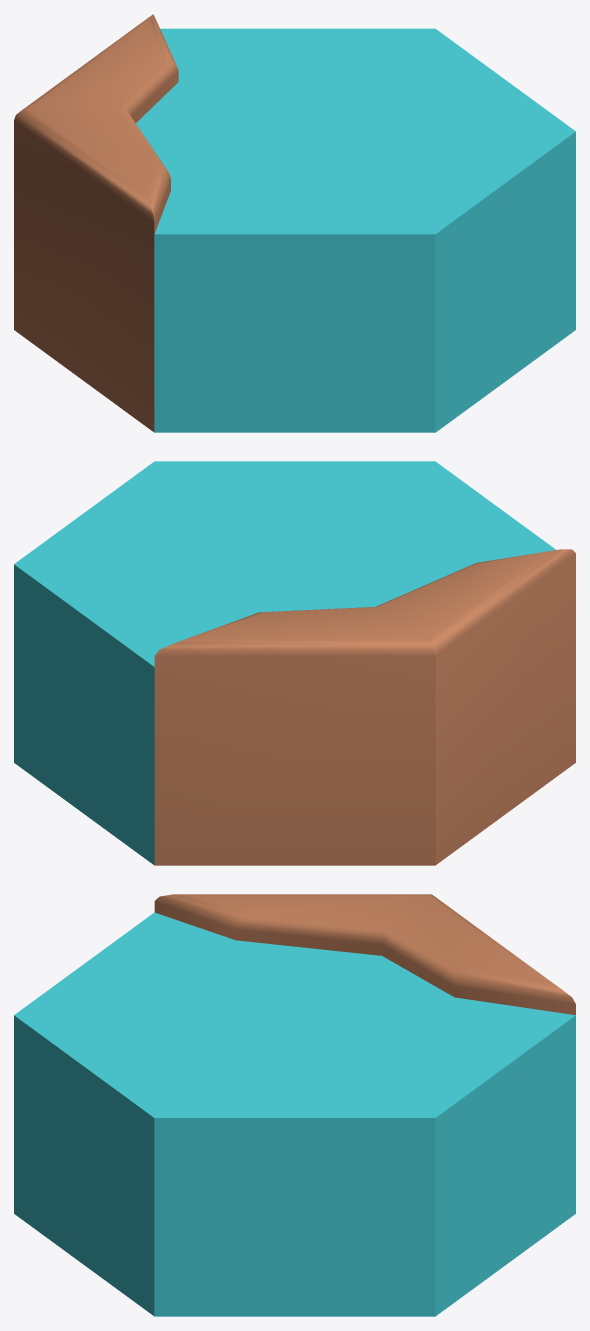
The model's file is hex_rock_waterA.glb.
3 renders of one model, top to bottom at view 1: azimuth 30°, elevation 25°; view 2: azimuth 150°, elevation 25°; view 3: azimuth 270°, elevation 25°, orthographic.
Parts seen in each view (by area): view 1: hex_rock_waterA; view 2: hex_rock_waterA; view 3: hex_rock_waterA.
Boxes of the visible parts, x1,y1,x2,y2 form: hex_rock_waterA: [14, 14, 575, 432]; hex_rock_waterA: [14, 461, 575, 865]; hex_rock_waterA: [14, 894, 575, 1316].
Size of the model in its own units: 2 by 1 by 2.31.
